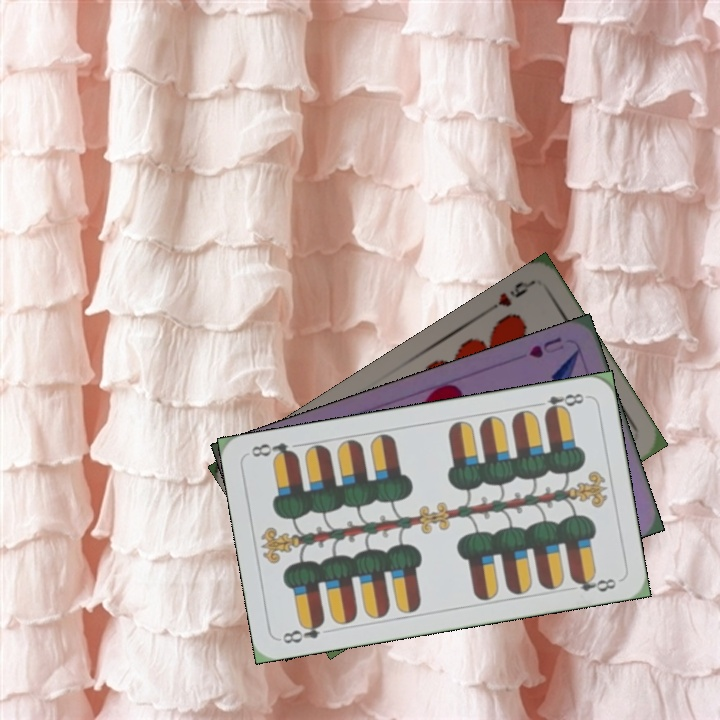E8: (531, 389, 587, 417), (278, 616, 328, 647)
H9: (482, 277, 535, 316)
HU: (524, 332, 567, 361)
